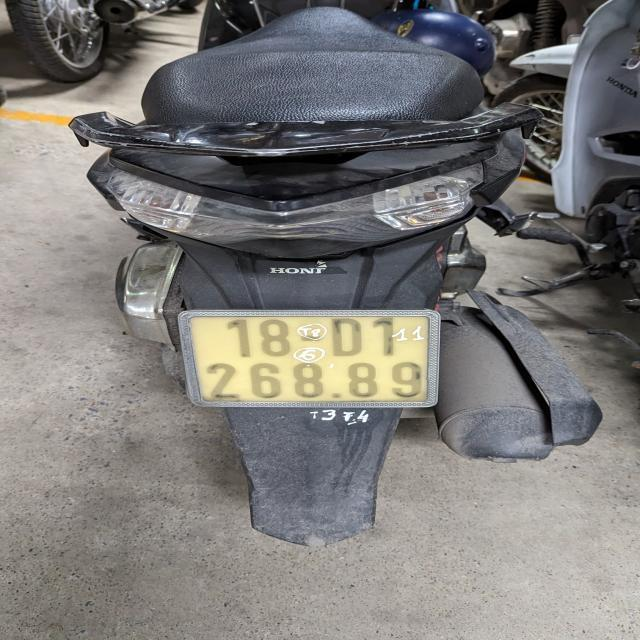license: (177, 307, 440, 409)
